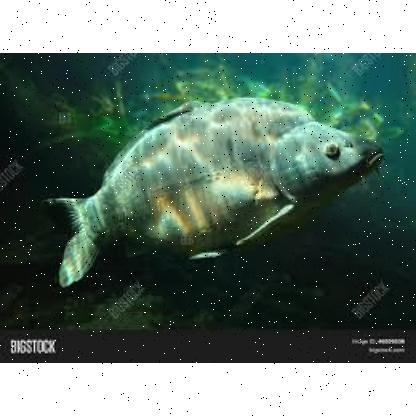ikan-mas: (53, 92, 384, 282)
